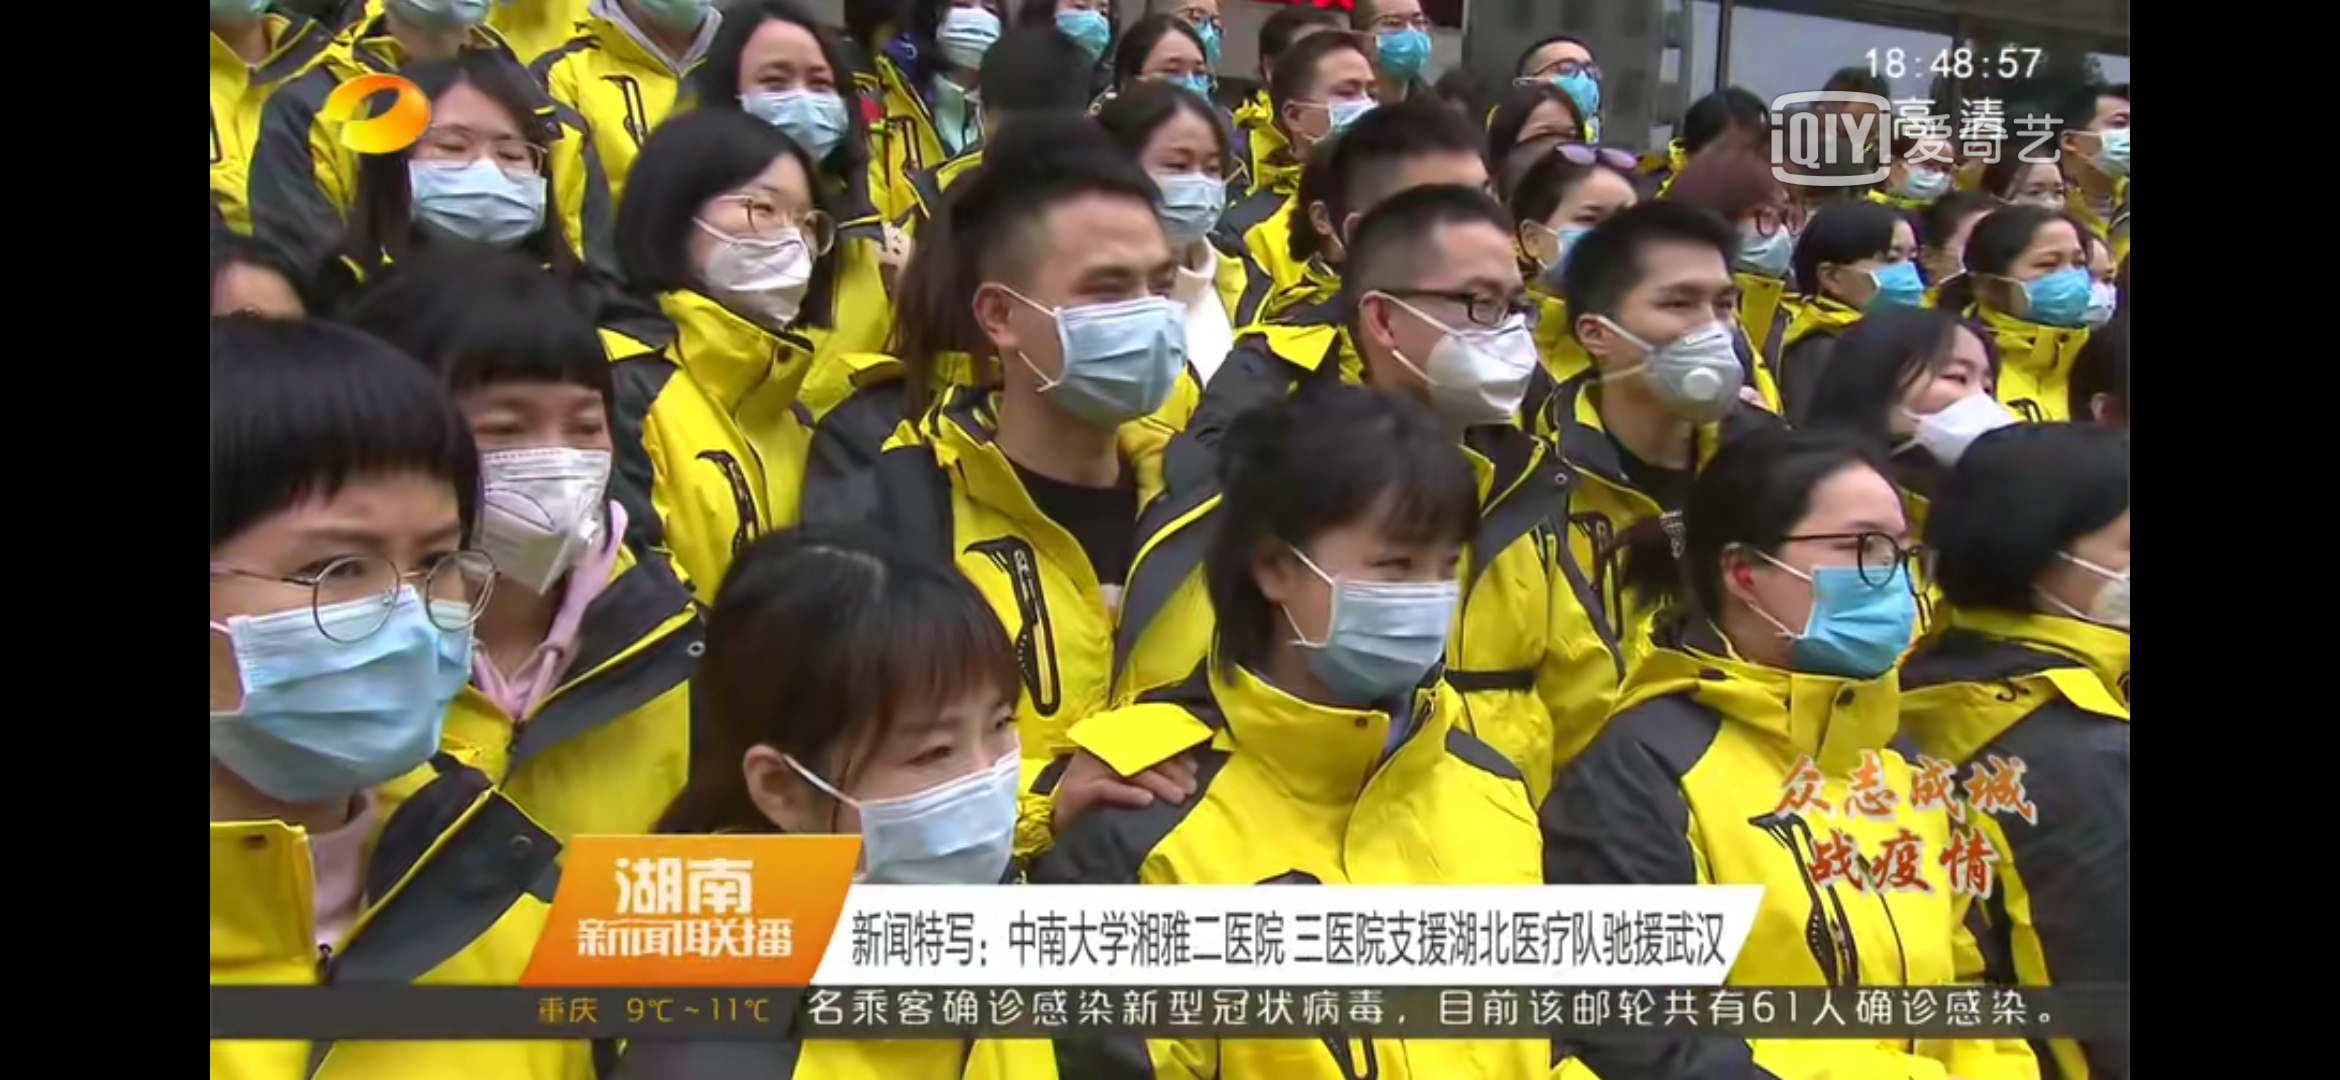correctlyWear: (210, 489, 478, 846), (755, 685, 1036, 894), (1248, 503, 1473, 723), (1701, 479, 1928, 697), (980, 219, 1195, 448), (1355, 251, 1548, 453), (464, 365, 619, 615), (1576, 257, 1736, 465), (681, 161, 827, 333), (409, 115, 569, 258), (1877, 337, 2009, 465), (733, 42, 854, 155), (1815, 218, 1940, 319), (1148, 115, 1237, 257), (1991, 215, 2095, 333), (1277, 60, 1377, 148), (2071, 501, 2130, 634), (2062, 91, 2136, 191), (1361, 7, 1439, 84), (925, 1, 1004, 76), (1737, 192, 1803, 279), (1051, 1, 1119, 66), (1549, 48, 1609, 119), (1892, 145, 1956, 201), (2089, 254, 2121, 328)
